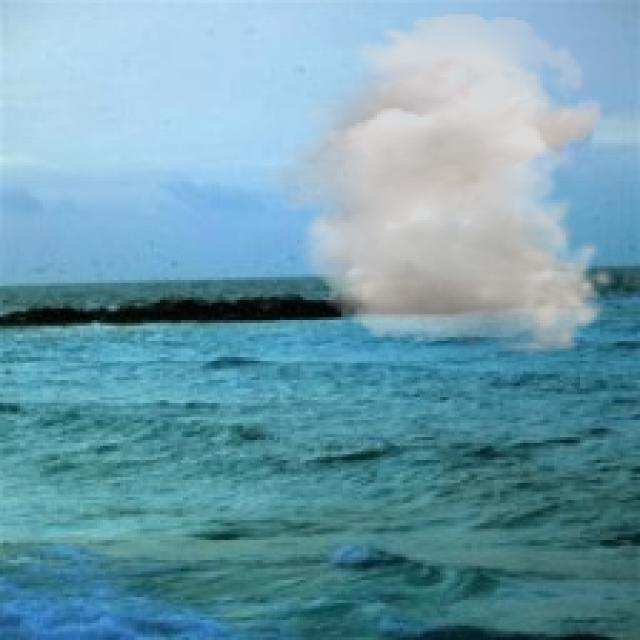smoke: (255, 12, 614, 357)
